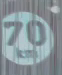Speed limit: (2, 3, 53, 67)
